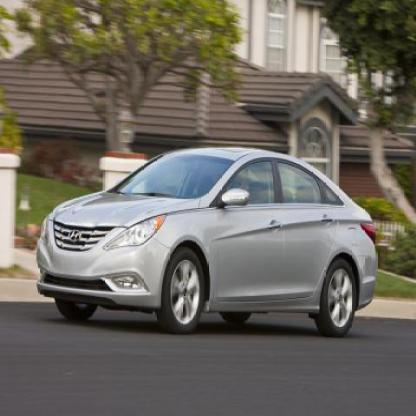Vehicle: (34, 142, 380, 336)
